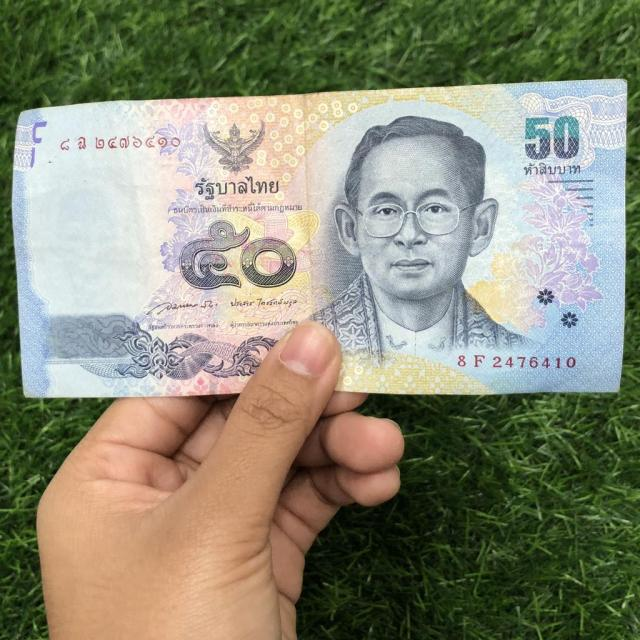THAI50: (12, 80, 626, 397)
